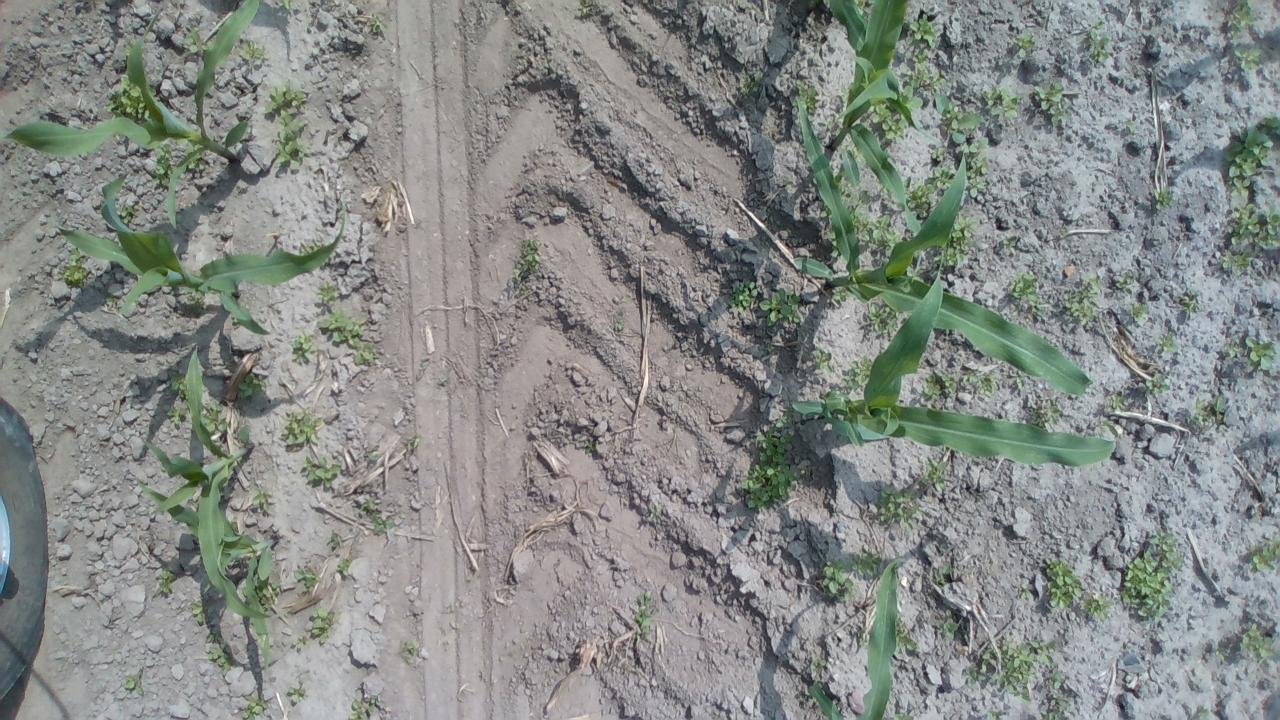Maize: (790, 99, 1093, 399), (791, 267, 1118, 468), (0, 0, 257, 228), (54, 175, 351, 339), (135, 346, 268, 625), (137, 481, 277, 670), (826, 0, 931, 235), (807, 557, 903, 720)
Weeds: (738, 409, 812, 514), (1120, 532, 1184, 626), (978, 638, 1064, 706), (1223, 114, 1280, 196), (265, 79, 309, 171), (318, 309, 376, 367), (104, 74, 154, 126), (934, 92, 984, 144), (876, 486, 928, 532), (936, 211, 977, 268), (837, 180, 873, 244), (1232, 204, 1280, 248), (1007, 270, 1047, 322), (1044, 557, 1082, 611), (1060, 278, 1101, 324), (962, 134, 991, 198), (758, 285, 801, 327), (279, 408, 324, 448), (869, 100, 908, 144), (920, 369, 960, 411), (819, 559, 856, 603), (981, 85, 1023, 123), (909, 52, 944, 96), (354, 494, 392, 534), (1238, 624, 1280, 660), (1033, 81, 1068, 124), (864, 301, 902, 338), (840, 353, 874, 393), (59, 248, 92, 289), (872, 213, 902, 258), (303, 454, 342, 488), (962, 368, 999, 402), (1228, 0, 1259, 40), (891, 612, 920, 654), (726, 279, 759, 315), (1246, 336, 1280, 370), (1028, 397, 1060, 433), (1190, 396, 1226, 428), (903, 178, 931, 219), (310, 606, 341, 643), (907, 13, 938, 50), (1086, 18, 1110, 64), (1248, 541, 1280, 574), (1078, 592, 1112, 623), (512, 239, 538, 279), (634, 590, 653, 641), (918, 460, 948, 492), (199, 399, 227, 433), (926, 164, 956, 195), (792, 78, 817, 115), (850, 550, 883, 578), (1220, 248, 1252, 276), (152, 145, 174, 185), (290, 332, 317, 364), (1234, 44, 1264, 72), (237, 39, 269, 65), (736, 70, 764, 99), (237, 372, 267, 399), (1040, 693, 1070, 720), (935, 610, 960, 641), (1012, 30, 1037, 60), (241, 693, 268, 720), (349, 696, 379, 720), (930, 564, 954, 594), (185, 31, 213, 56), (257, 582, 282, 610), (206, 647, 234, 672), (852, 0, 876, 29), (900, 86, 924, 114), (1144, 373, 1170, 398), (294, 568, 318, 595), (314, 280, 338, 306), (251, 488, 274, 514), (814, 348, 835, 374), (1152, 186, 1174, 210), (122, 672, 144, 696), (1115, 273, 1136, 297), (164, 404, 188, 425), (190, 601, 210, 626), (168, 371, 186, 398), (115, 202, 136, 225), (1098, 419, 1120, 439), (1106, 392, 1128, 412), (831, 287, 856, 304), (333, 556, 352, 578), (364, 15, 385, 34), (822, 118, 841, 138), (184, 286, 203, 306), (1012, 367, 1027, 392), (1158, 334, 1178, 352), (1127, 302, 1147, 320), (158, 570, 172, 595), (190, 156, 210, 173), (847, 146, 865, 164), (808, 656, 826, 673), (904, 265, 922, 282), (402, 637, 418, 656), (299, 241, 319, 256), (288, 686, 304, 704), (1182, 297, 1198, 314), (838, 83, 852, 102), (325, 532, 344, 546), (294, 634, 310, 650), (1225, 342, 1241, 358), (319, 251, 336, 266), (930, 146, 946, 161), (856, 630, 870, 646), (966, 666, 976, 687), (1003, 238, 1017, 253), (184, 140, 201, 152), (575, 4, 592, 16), (1125, 120, 1138, 134), (1017, 588, 1032, 600), (278, 0, 295, 10), (104, 294, 118, 306), (208, 631, 222, 643), (894, 712, 914, 720), (612, 318, 624, 331), (238, 302, 250, 312), (414, 435, 423, 448), (1214, 648, 1225, 658), (584, 441, 594, 452), (1058, 228, 1069, 238), (767, 344, 777, 354), (230, 314, 240, 324), (914, 248, 924, 257), (120, 179, 127, 190)
